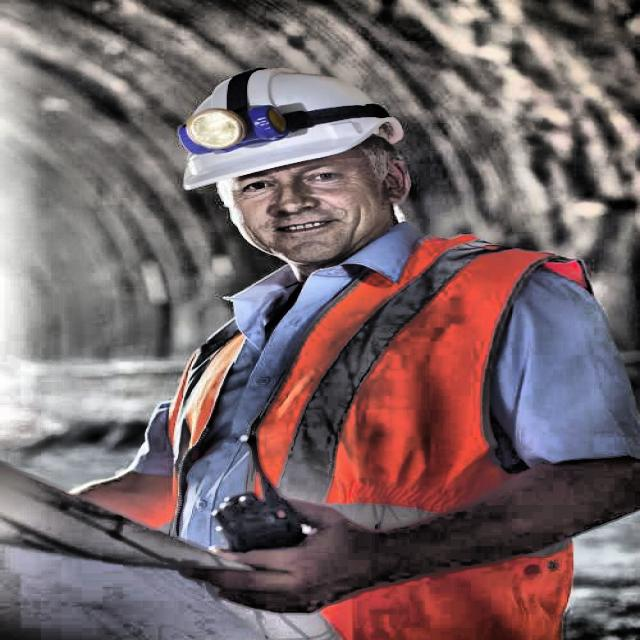helmet: (152, 54, 440, 275)
